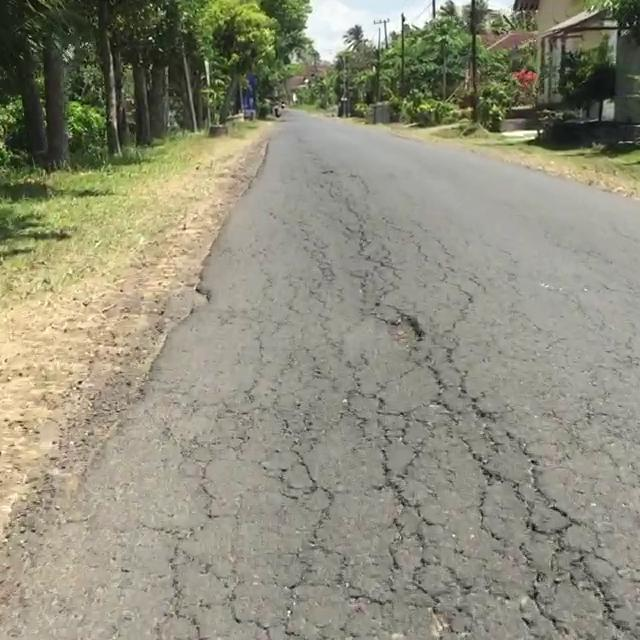retak_kulit_buaya: (167, 394, 640, 640), (270, 190, 463, 294)
